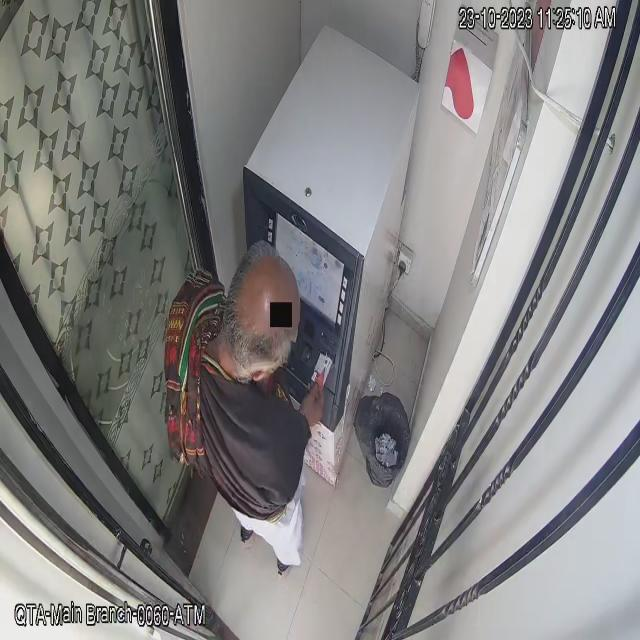atm-card: (307, 347, 336, 393)
